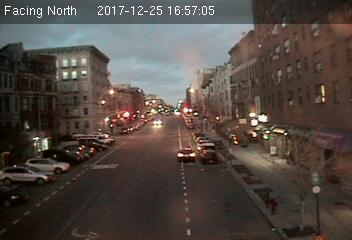car: (198, 149, 219, 164), (177, 148, 196, 162)
